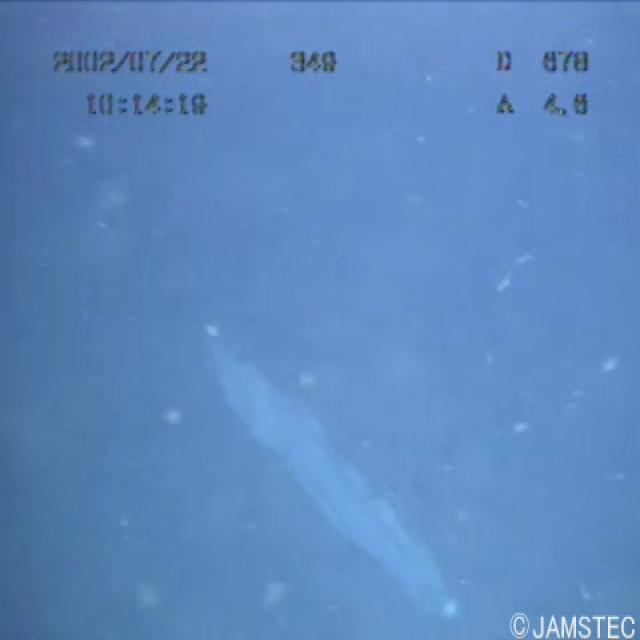plastic: (163, 308, 473, 631)
